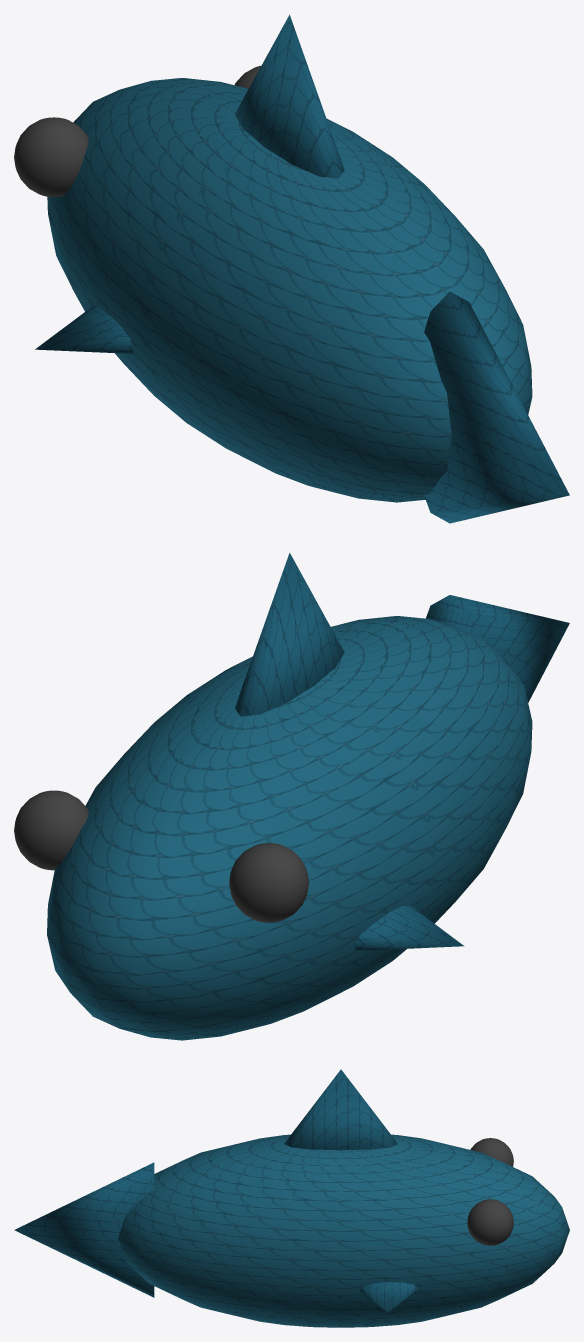
Rendered from aquatic-proof.glb.
3 views of the same model, one above another, from view 1: azimuth 30°, elevation 25°; view 2: azimuth 150°, elevation 25°; view 3: azimuth 270°, elevation 25° (orthographic). The views are drawn at different scales.
Visible parts, largest first — view 1: Body, TailFin, DorsalFin, Eye, PectoralFin; view 2: Body, DorsalFin, TailFin, Eye, Eye.001, PectoralFin; view 3: Body, TailFin, DorsalFin, Eye.001, PectoralFin.001, Eye.
Boxes of the visible parts, x1,y1,x2,y2 form: Body: [47, 78, 532, 502]; TailFin: [424, 291, 569, 523]; DorsalFin: [234, 14, 344, 178]; Eye: [14, 117, 88, 197]; PectoralFin: [35, 305, 133, 353]; Body: [47, 616, 532, 1040]; DorsalFin: [234, 553, 344, 716]; TailFin: [426, 595, 569, 702]; Eye: [229, 843, 308, 922]; Eye.001: [14, 790, 88, 870]; PectoralFin: [354, 905, 464, 950]; Body: [118, 1134, 569, 1327]; TailFin: [14, 1162, 154, 1297]; DorsalFin: [284, 1069, 397, 1150]; Eye.001: [467, 1199, 513, 1245]; PectoralFin.001: [360, 1282, 418, 1312]; Eye: [470, 1138, 513, 1166].
Bounding box in the file's own units: 0.62 × 0.59 × 1.19.
Materials: 3 (2 with a texture image).
